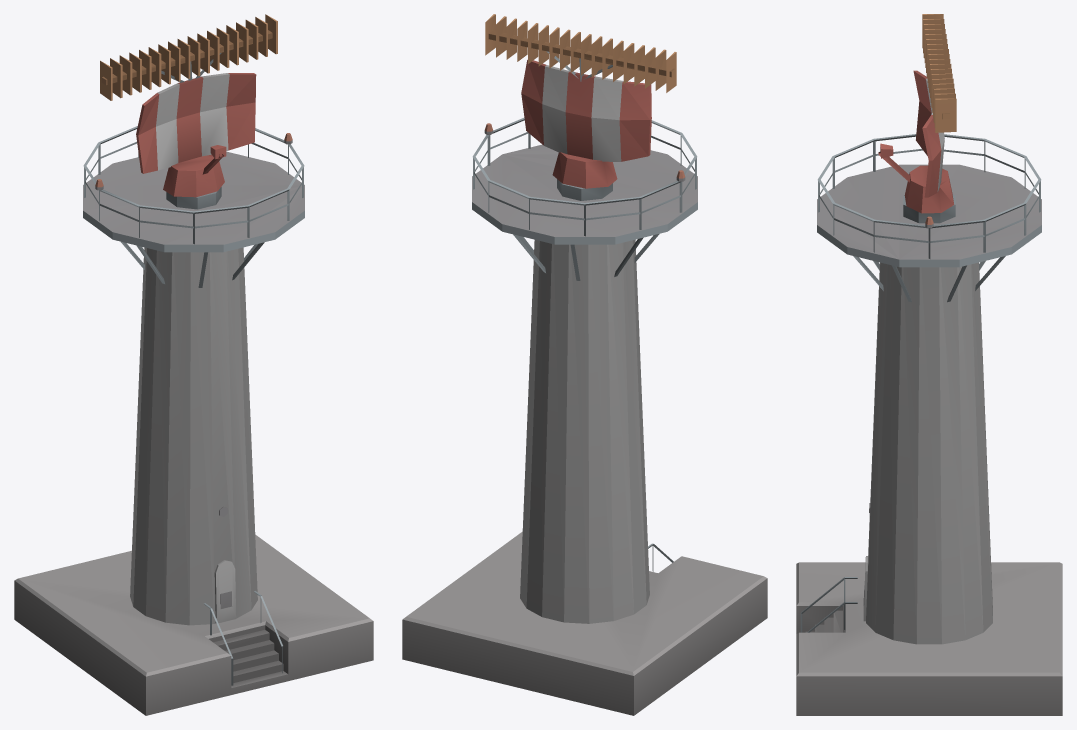
The model's file is radar.glb.
3 views of the same model, side by side, from view 1: azimuth 30°, elevation 25°; view 2: azimuth 150°, elevation 25°; view 3: azimuth 270°, elevation 25° (orthographic).
Visible parts, largest first — view 1: radar; view 2: radar; view 3: radar.
Boxes of the visible parts, x1,y1,x2,y2 form: radar: [14, 14, 373, 715]; radar: [402, 14, 767, 715]; radar: [796, 14, 1062, 715].
Bounding box in the file's own units: 8 × 20 × 8.
